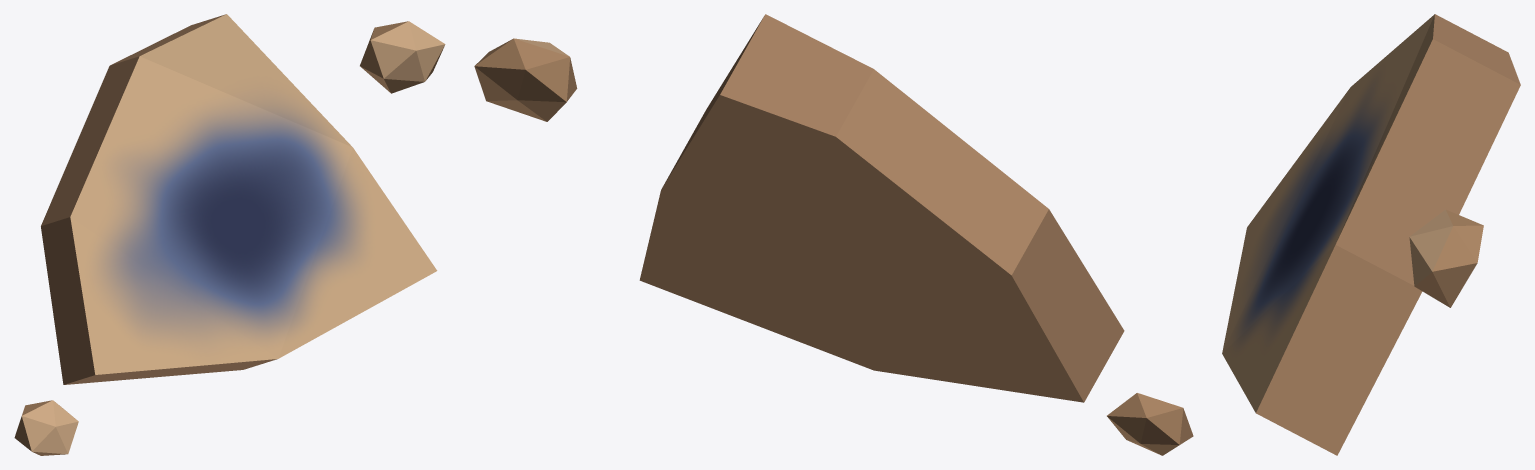
Rendered from oxido-de-manganes.glb.
The picture shows the model from 3 angles, left to right: view 1: azimuth 30°, elevation 25°; view 2: azimuth 150°, elevation 25°; view 3: azimuth 270°, elevation 25°; orthographic projection. The views are drawn at different scales.
Parts seen in each view (by area): view 1: oxido-de-manganes; view 2: oxido-de-manganes; view 3: oxido-de-manganes.
Part boxes in pixels (left/top/right/bottom): oxido-de-manganes: left=14, top=14, right=445, bottom=455; oxido-de-manganes: left=474, top=14, right=1193, bottom=455; oxido-de-manganes: left=1222, top=14, right=1520, bottom=455.
Bounding box in the file's own units: 1.1 × 0.7205 × 0.4759.
Materials: 3 (1 with a texture image).
